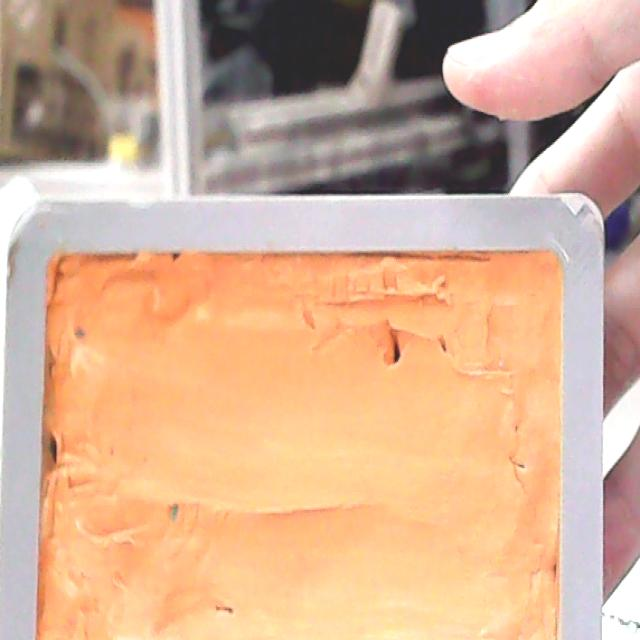block: (0, 194, 605, 639)
